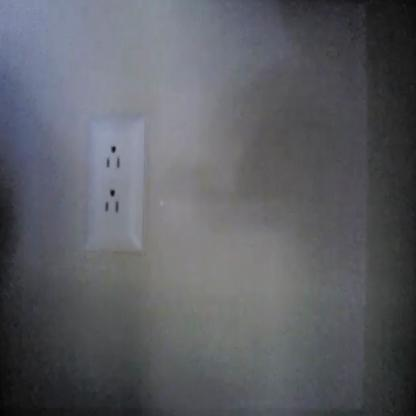OUTLET: (85, 114, 145, 252)
